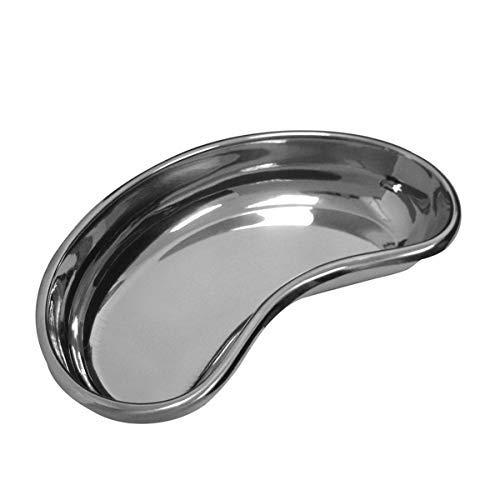Kidney Tray: (30, 104, 468, 427)
